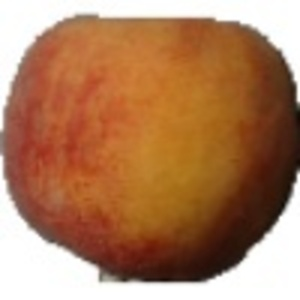pêssego: (1, 12, 300, 285)
